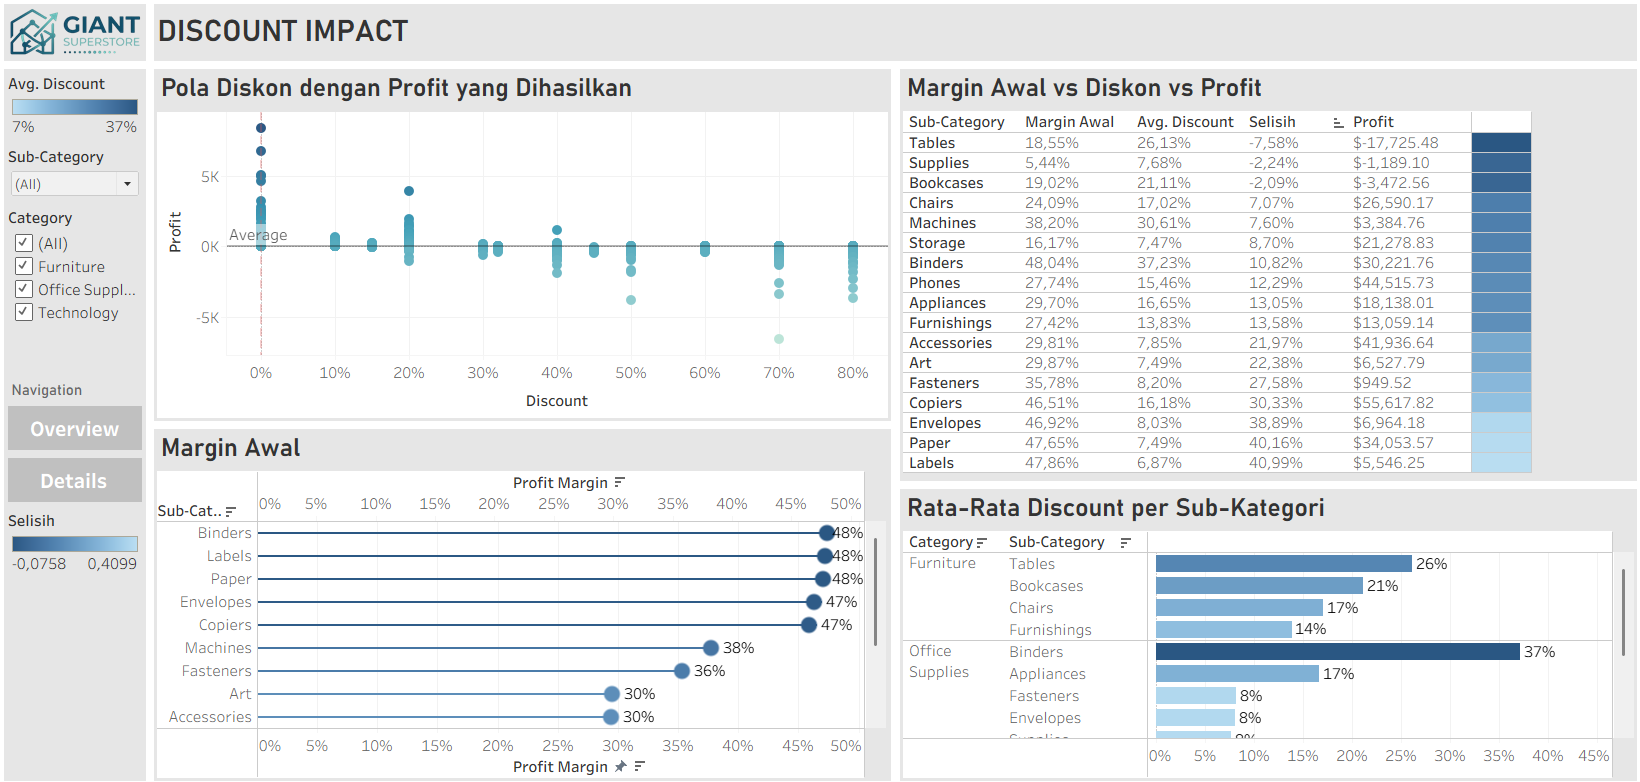

The page's visual inventory and layout, read from the dashboard file:
{"tool":"tableau","page":{"name":"Dashboard 2","canvas":[1000,1000],"units":"permille","ordinal":1},"visuals":[{"type":"image","param":"Image/image-removebg-preview (5).png","box":[4.8,10,90.7,81.1]},{"type":"title","box":[95.6,10,899.6,81.1]},{"type":"worksheet","title":"Scatter","mark":"Circle","rows":["Profit"],"cols":["Discount"],"box":[95.6,91.1,449.8,449.5]},{"type":"worksheet","title":"Sheet 18","mark":"Automatic","rows":["Sub-Category","Calculation_0555264055631873","Discount","Calculation_0555264057110530","Profit"],"box":[545.3,91.1,449.8,524.4]},{"type":"legend","title":"Dis by Cat-subCat","param":"[federated.0zs0vi01hys0k11h99owg1xbc66q].[avg:Discount:qk]","box":[7.2,96,85.9,91.1]},{"type":"filter","title":"Dis by Cat-subCat","param":"[federated.0zs0vi01hys0k11h99owg1xbc66q].[none:Sub-Category:nk]","box":[7.2,187.2,85.9,76.2]},{"type":"filter","title":"Dis by Cat-subCat","param":"[federated.0zs0vi01hys0k11h99owg1xbc66q].[none:Category:nk]","box":[7.2,263.4,85.9,159.8]},{"type":"blank","box":[7.2,423.2,85.9,59.9]},{"type":"text","box":[7.2,483.1,85.9,28.7]},{"type":"dashboard-object","box":[7.2,511.8,85.9,64.9]},{"type":"worksheet","title":"lolipop","mark":"Line","rows":["Sub-Category"],"cols":["Calculation_0111060914675714","Calculation_0111060914675714"],"box":[95.6,540.6,449.8,449.4]},{"type":"dashboard-object","box":[7.2,576.7,85.9,64.9]},{"type":"worksheet","title":"Dis by Cat-subCat","mark":"Automatic","rows":["Category","Sub-Category"],"cols":["Discount"],"box":[545.3,615.5,449.8,374.5]},{"type":"legend","title":"Sheet 18","param":"[federated.0zs0vi01hys0k11h99owg1xbc66q].[usr:Calculation_0555264057110530:qk]","box":[7.2,641.6,85.9,91.1]}]}

Visuals, with their boxes on the dashboard's canvas, which has no fixed pixel size, in thousandths of its width and height (x1, y1, x2, y2). These are canvas units, not pixel positions in the 1640x782 screenshot, which may show the page scaled, cropped or inside an application window:
image: [5, 10, 96, 91]
title: [96, 10, 995, 91]
"Scatter" worksheet (Circle marks): [96, 91, 545, 541]
"Sheet 18" worksheet: [545, 91, 995, 616]
"Dis by Cat-subCat" legend: [7, 96, 93, 187]
"Dis by Cat-subCat" filter: [7, 187, 93, 263]
"Dis by Cat-subCat" filter: [7, 263, 93, 423]
blank: [7, 423, 93, 483]
text: [7, 483, 93, 512]
dashboard-object: [7, 512, 93, 577]
"lolipop" worksheet (Line marks): [96, 541, 545, 990]
dashboard-object: [7, 577, 93, 642]
"Dis by Cat-subCat" worksheet: [545, 616, 995, 990]
"Sheet 18" legend: [7, 642, 93, 733]
